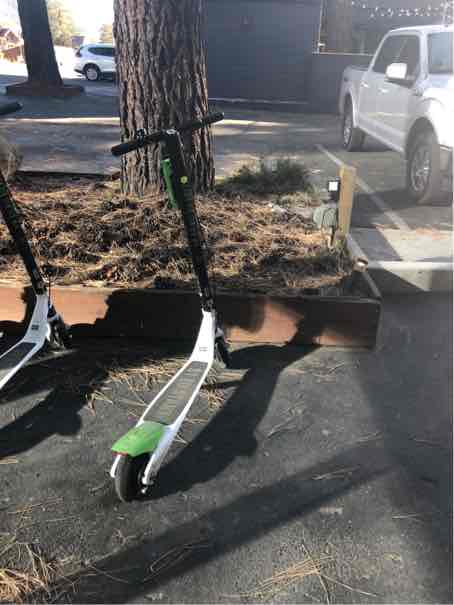scooter: (104, 111, 260, 504)
